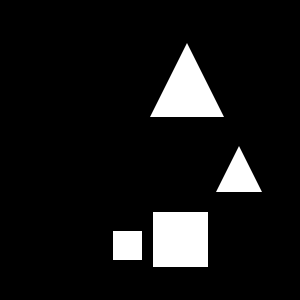circle: (153, 212, 208, 267), (113, 231, 142, 260)
triangle: (150, 43, 224, 117), (216, 146, 262, 192), (184, 101, 197, 114)
